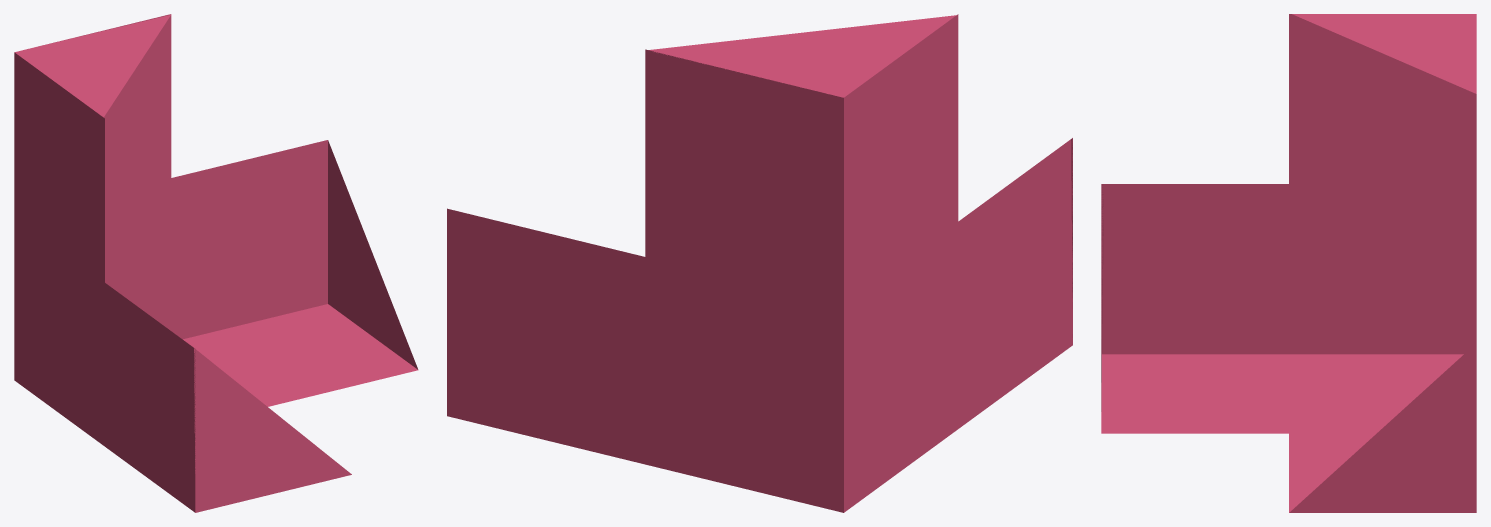
The model's file is r5c5_body_pink.gltf.
3 renders of one model, left to right at view 1: azimuth 30°, elevation 25°; view 2: azimuth 150°, elevation 25°; view 3: azimuth 270°, elevation 25°, orthographic. The views are drawn at different scales.
Visible parts, largest first — view 1: r5c5_body_pink; view 2: r5c5_body_pink; view 3: r5c5_body_pink.
Boxes of the visible parts, x1=… form: r5c5_body_pink: x1=14, y1=14, x2=418, y2=512; r5c5_body_pink: x1=447, y1=14, x2=1072, y2=512; r5c5_body_pink: x1=1101, y1=14, x2=1476, y2=512.
Bounding box in the file's own units: 2 × 2 × 2.
Materials: 1 (1 with a texture image).
